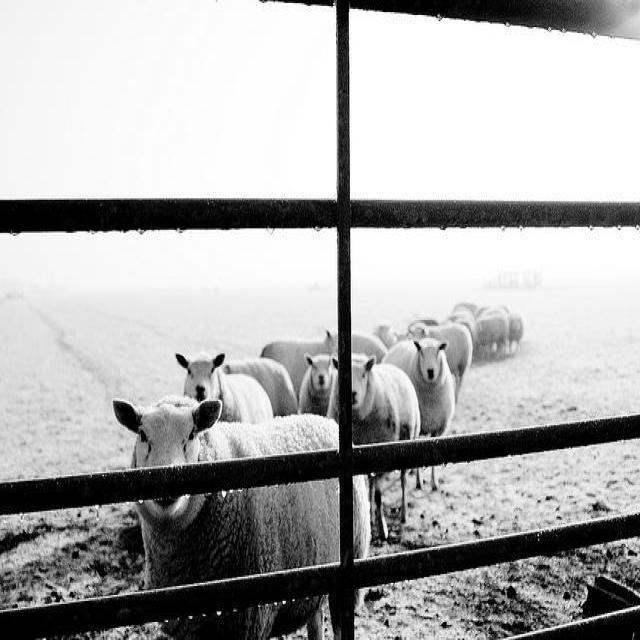Sheep: (115, 395, 370, 639), (380, 340, 458, 491), (332, 353, 422, 445), (176, 353, 274, 422), (260, 332, 338, 400), (409, 324, 472, 406), (222, 358, 299, 416), (296, 354, 340, 426), (474, 312, 509, 363)
